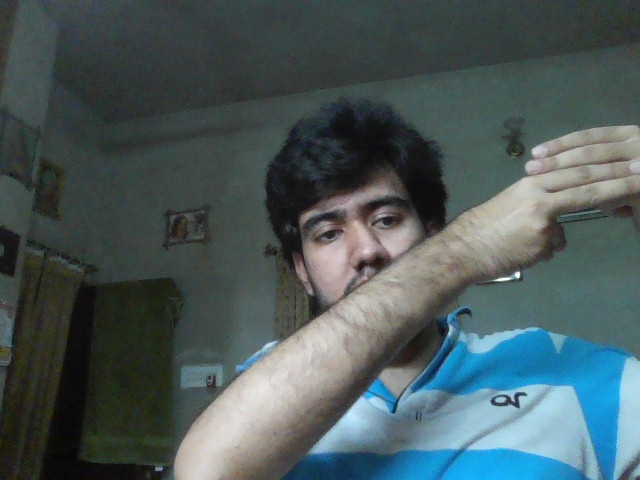Name: (476, 124, 640, 278)
